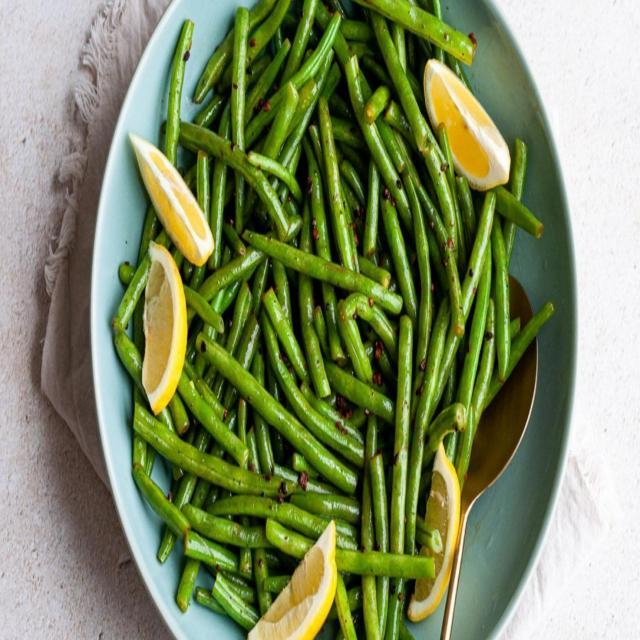Beans: (112, 0, 566, 639)
